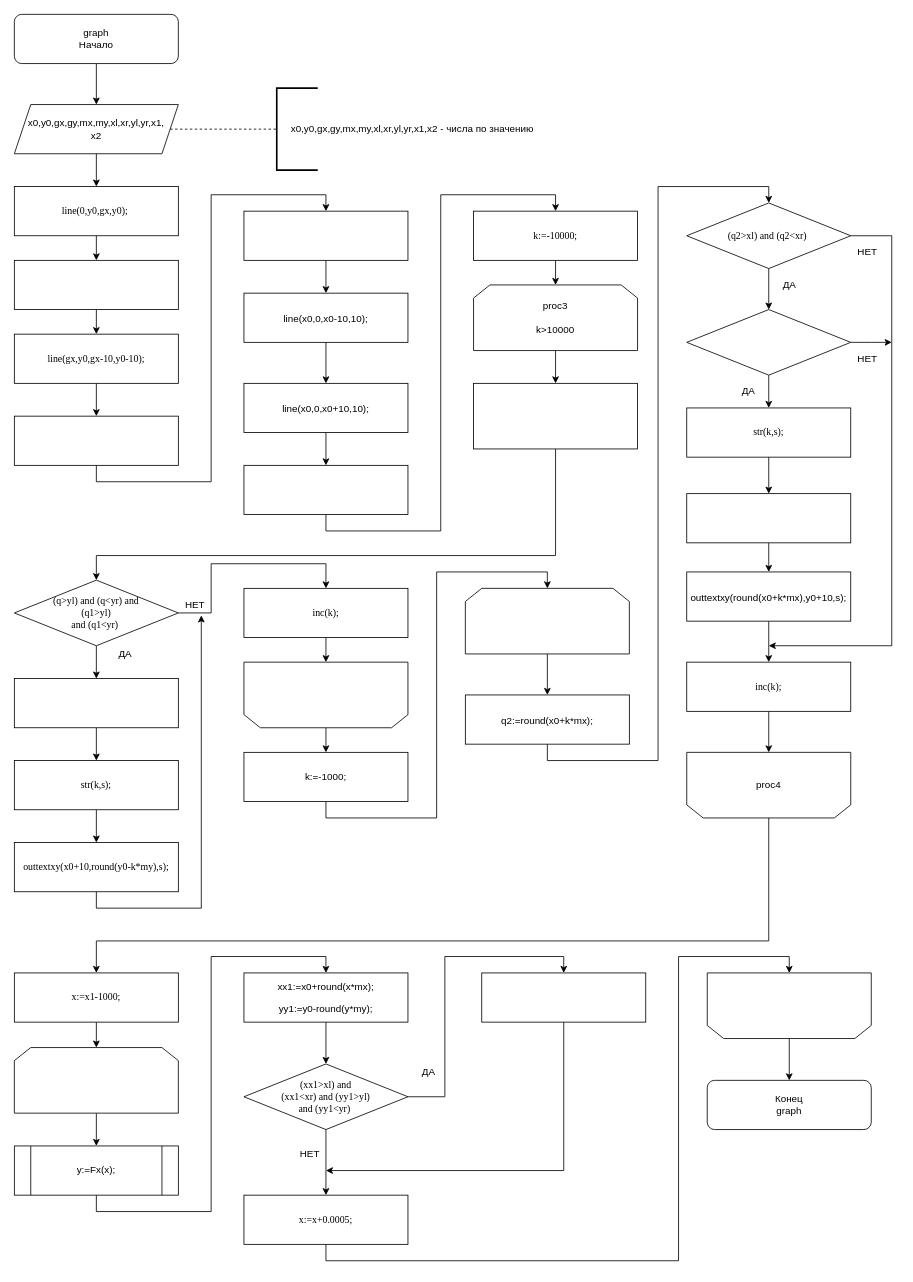
Some shapes in this 913 by 1282 pixel diagram are drawn without their labels. The centre of each missing label's shape, as x and y in pixels:
k<>0: the point at 768,342
line ( x 0,0, x 0, gy );: the point at 325,235
line(gx,y0,gx-10,y0+10);: the point at 96,285
line(round(x0+k*mx),y0+2, round(x0+k*mx),y0-2);: the point at 768,518
line(x0+2,round(y0+k*my),x0-2,round(y0+k*my));: the point at 96,703
outtextxy ( gx -15, y 0+15,' X ');: the point at 96,440
outtextxy ( x 0+15,15,' Y ');: the point at 325,490
proc3: the point at 325,694
proc4 k>1000: the point at 547,621
proc5: the point at 788,1005
proc5 x>x2+1000: the point at 96,1080
putpixel ( xx 1, yy 1,12);: the point at 563,997
q:=round(y0+k*my); q1:=round(y0-k*my); q2:=round(x0+k*mx);: the point at 555,416
